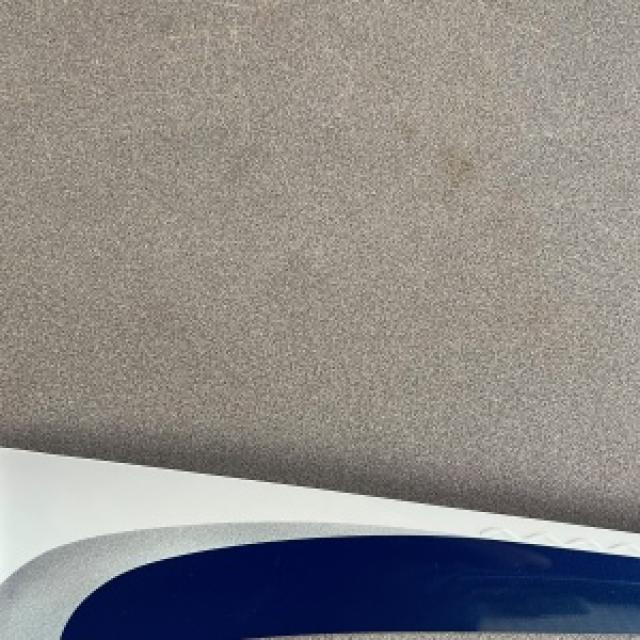healthy: (0, 446, 638, 638)
